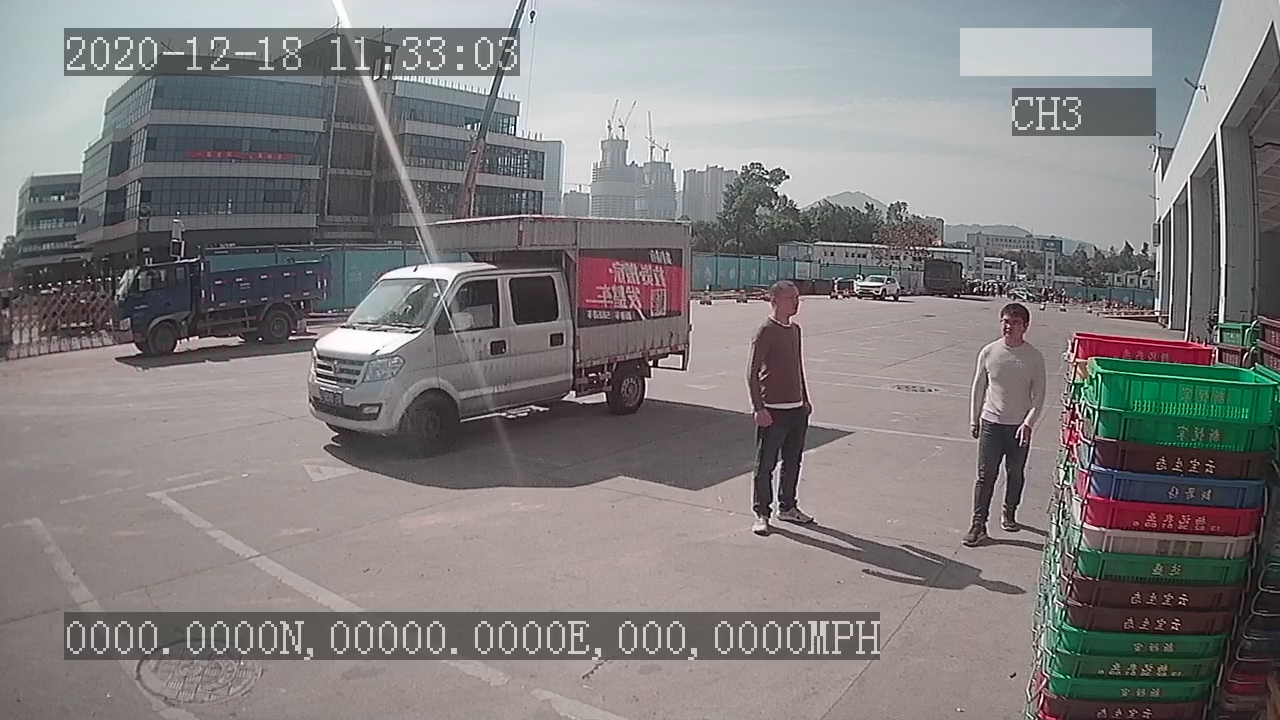person: (741, 277, 832, 538), (959, 297, 1046, 548)
